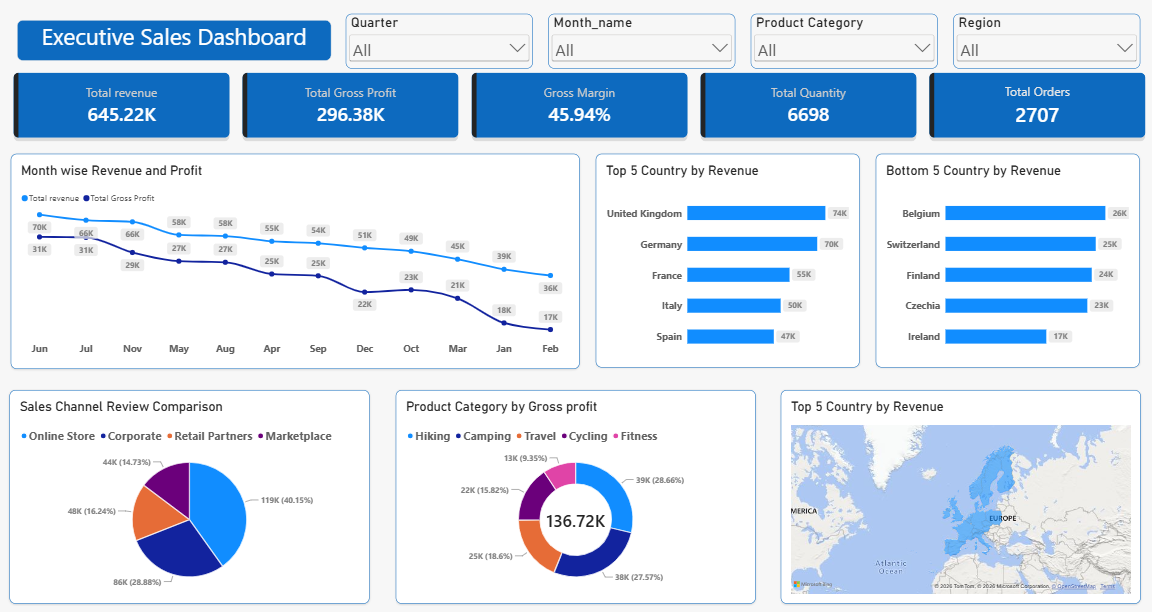

What the dashboard file says about the page in this screenshot:
{"tool":"powerbi","page":{"name":"Page 1","canvas":[1920,1080],"ordinal":0},"visuals":[{"type":"cardVisual","fields":{"Data":["All measures.Total revenue","All measures.Total Gross Profit","All measures.Gross Margin","All measures.Total Quantity","All measures.Total Orders"]},"box":[20,112.5,1880,120],"z":0},{"type":"textbox","box":[32.5,32.5,517.5,67.5],"z":1000},{"type":"slicer","fields":{"Values":["Date_table.Quarter"]},"box":[575,22.5,307.9,90],"z":2000,"group":"g1"},{"type":"slicer","fields":{"Values":["Date_table.Month_name"]},"box":[908.2,22.5,307.9,90],"z":3000,"group":"g1"},{"type":"slicer","fields":{"Values":["sale_data.Region"]},"box":[1574.6,22.5,307.9,90],"z":4000,"group":"g1"},{"type":"slicer","fields":{"Values":["sale_data.Product Category"]},"box":[1241.4,22.5,307.9,90],"z":5000,"group":"g1"},{"type":"lineChart","title":"Month wise Revenue and Profit","fields":{"Category":["Date_table.Month_name"],"Y":["All measures.Total revenue"],"Y2":["All measures.Total Gross Profit"]},"box":[22.6,253.2,936.5,354],"z":6000},{"type":"group","id":"g1","title":"Group 1","box":[575,22.5,1307.5,90],"z":6001},{"type":"clusteredBarChart","title":"Top 5 Country by Revenue","fields":{"Category":["sale_data.Country"],"Y":["All measures.Total revenue"]},"box":[985.9,253.2,434.3,352],"z":6002},{"type":"clusteredBarChart","title":"Bottom 5 Country by Revenue","fields":{"Category":["sale_data.Country"],"Y":["All measures.Total revenue"]},"box":[1447,253.2,434.3,352],"z":6003},{"type":"pieChart","title":"Sales Channel Review Comparison","fields":{"Category":["sale_data.Sales Channel"],"Y":["All measures.Total revenue"]},"box":[20.6,643.2,593.1,352],"z":6006},{"type":"filledMap","title":"Top 5 Country by Revenue","fields":{"Category":["sale_data.Country"]},"box":[1290.6,642.2,593.1,352],"z":6007},{"type":"donutChart","title":"Product Category by Gross profit","fields":{"Category":["sale_data.Product Category"],"Y":["All measures.Total Gross Profit"]},"box":[655.6,642.2,593.1,352],"z":6008}]}

Visuals, with their boxes on the page's 1920x1080 design canvas (x1, y1, x2, y2). These are canvas units, not pixel positions in the 1152x612 screenshot, which may show the page scaled, cropped or inside an application window:
cardVisual - All measures.Total revenue x All measures.Total Gross Profit: l=20, t=112, r=1900, b=232
textbox: l=32, t=32, r=550, b=100
slicer - Date_table.Quarter: l=575, t=22, r=883, b=112
slicer - Date_table.Month_name: l=908, t=22, r=1216, b=112
slicer - sale_data.Region: l=1575, t=22, r=1882, b=112
slicer - sale_data.Product Category: l=1241, t=22, r=1549, b=112
"Month wise Revenue and Profit" lineChart: l=23, t=253, r=959, b=607
"Group 1" group: l=575, t=22, r=1882, b=112
"Top 5 Country by Revenue" clusteredBarChart: l=986, t=253, r=1420, b=605
"Bottom 5 Country by Revenue" clusteredBarChart: l=1447, t=253, r=1881, b=605
"Sales Channel Review Comparison" pieChart: l=21, t=643, r=614, b=995
"Top 5 Country by Revenue" filledMap: l=1291, t=642, r=1884, b=994
"Product Category by Gross profit" donutChart: l=656, t=642, r=1249, b=994
